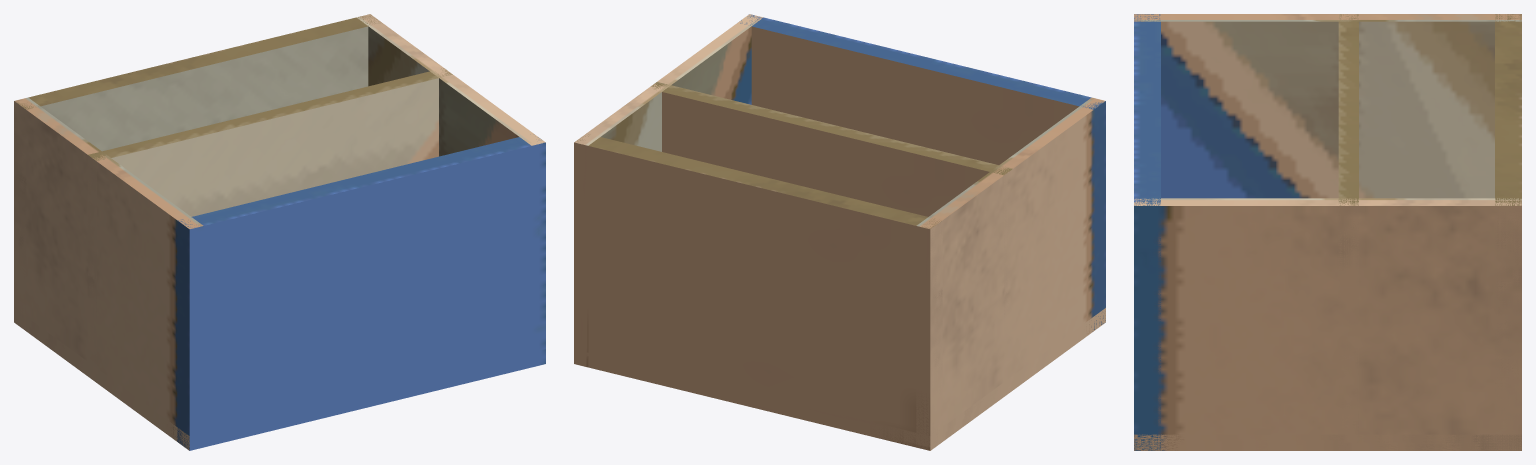
File: pz_g016_shop_fossoil_low_shelves.obj
The picture shows the model from 3 angles, left to right: view 1: azimuth 30°, elevation 25°; view 2: azimuth 150°, elevation 25°; view 3: azimuth 270°, elevation 25°; orthographic projection. The views are drawn at different scales.
Parts seen in each view (by area): view 1: physical_component_5_z+, physical_component_1_x-, physical_component_4_z+, physical_component_3_z+, physical_component_0_z+, physical_component_2_x-, physical_component_3_y+, physical_component_5_y+, physical_component_4_y+, physical_component_2_z+, physical_component_1_z+, physical_component_0_x- (+5 smaller); view 2: physical_component_3_z-, physical_component_1_x-, physical_component_5_z-, physical_component_4_z-, physical_component_0_z-, physical_component_2_x-, physical_component_5_y+, physical_component_3_y+, physical_component_4_y+, physical_component_1_z-, physical_component_2_z-, physical_component_0_x- (+3 smaller); view 3: physical_component_2_x+, physical_component_1_x+, physical_component_0_x+, physical_component_3_y+, physical_component_5_y+, physical_component_4_y+, physical_component_3_x+, physical_component_5_x+, physical_component_1_y+, physical_component_2_y+, physical_component_4_x+.
Part boxes in pixels (x1,y1,x2,y2): physical_component_5_z+: [189, 143, 545, 450]; physical_component_1_x-: [14, 101, 189, 448]; physical_component_4_z+: [111, 78, 438, 216]; physical_component_3_z+: [41, 26, 368, 151]; physical_component_0_z+: [189, 349, 545, 450]; physical_component_2_x-: [368, 26, 518, 156]; physical_component_3_y+: [17, 14, 378, 109]; physical_component_5_y+: [178, 137, 543, 228]; physical_component_4_y+: [88, 68, 452, 160]; physical_component_2_z+: [531, 142, 545, 367]; physical_component_1_z+: [189, 226, 203, 450]; physical_component_0_x-: [14, 308, 189, 450]; physical_component_3_z-: [574, 142, 930, 450]; physical_component_1_x-: [930, 101, 1105, 449]; physical_component_5_z-: [751, 26, 1078, 164]; physical_component_4_z-: [662, 92, 989, 216]; physical_component_0_z-: [574, 349, 930, 450]; physical_component_2_x-: [601, 26, 751, 151]; physical_component_5_y+: [740, 14, 1104, 109]; physical_component_3_y+: [575, 134, 941, 228]; physical_component_4_y+: [651, 82, 1012, 175]; physical_component_1_z-: [916, 226, 930, 450]; physical_component_2_z-: [574, 142, 588, 367]; physical_component_0_x-: [930, 308, 1105, 450]; physical_component_2_x+: [1134, 206, 1521, 450]; physical_component_1_x+: [1161, 21, 1494, 198]; physical_component_0_x+: [1134, 434, 1521, 450]; physical_component_3_y+: [1495, 14, 1521, 205]; physical_component_5_y+: [1134, 14, 1160, 205]; physical_component_4_y+: [1338, 14, 1358, 205]; physical_component_3_x+: [1495, 206, 1521, 450]; physical_component_5_x+: [1134, 206, 1160, 450]; physical_component_1_y+: [1134, 14, 1521, 21]; physical_component_2_y+: [1134, 198, 1521, 205]; physical_component_4_x+: [1338, 206, 1358, 450].
Bounding box in the file's own units: 1.01 × 0.6 × 0.8611.
Materials: 1 (1 with a texture image).
